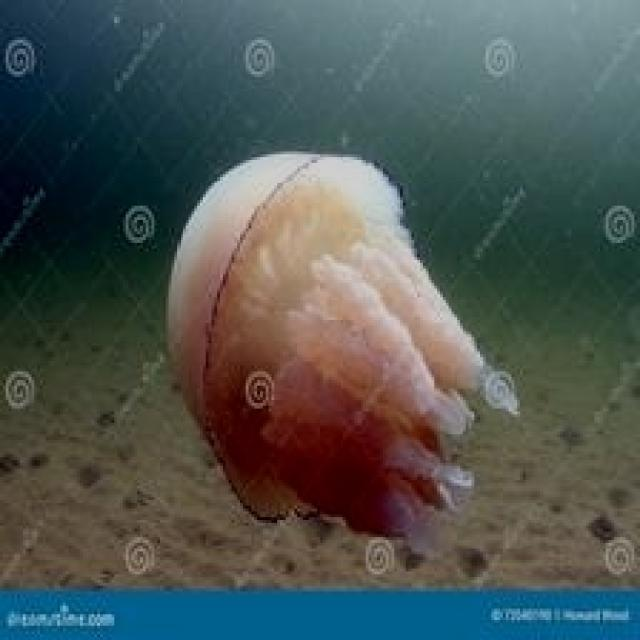Box-jellyfish: (163, 148, 520, 563)
